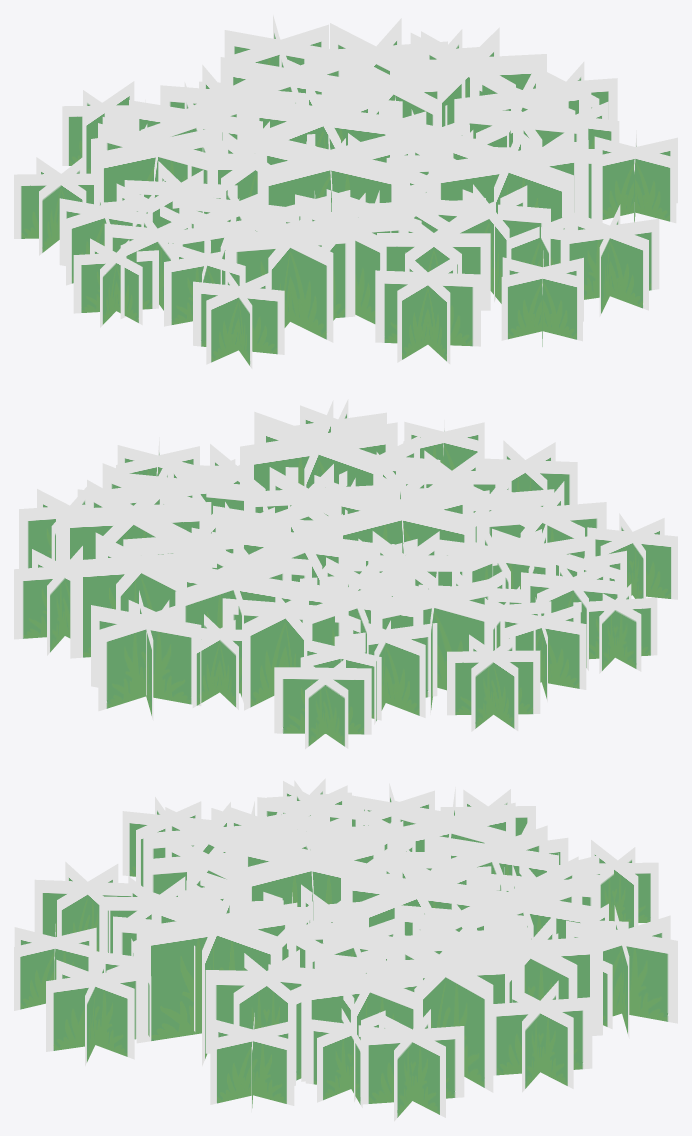
The model's file is GrassPatch.fbx.
3 views of the same model, one above another, from view 1: azimuth 30°, elevation 25°; view 2: azimuth 150°, elevation 25°; view 3: azimuth 270°, elevation 25° (orthographic).
Parts seen in each view (by area): view 1: GrassPatch_LOD0; view 2: GrassPatch_LOD0; view 3: GrassPatch_LOD0.
Boxes of the visible parts, x1,y1,x2,y2 form: GrassPatch_LOD0: (14,15,677,368); GrassPatch_LOD0: (14,399,677,749); GrassPatch_LOD0: (14,778,677,1121).
Size of what is drawn, in the model's own units: 629 by 120 by 623.
